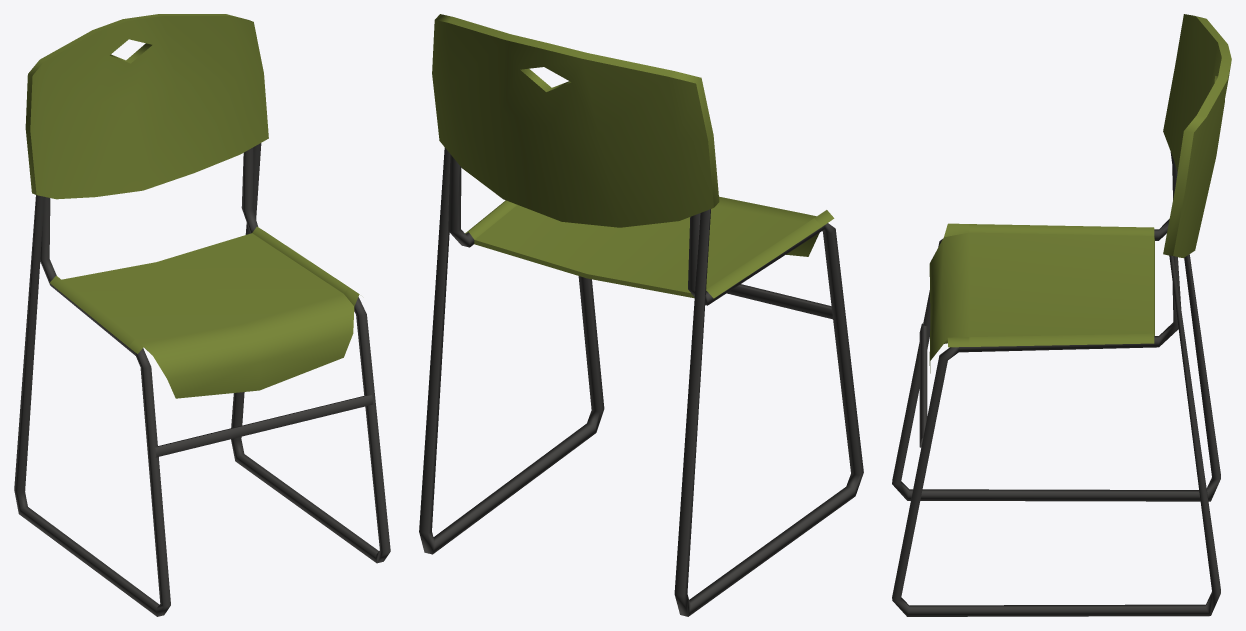
File: Chair_Wire_Mesh.fbx
3 views of the same model, side by side, from view 1: azimuth 30°, elevation 25°; view 2: azimuth 150°, elevation 25°; view 3: azimuth 270°, elevation 25° (orthographic). The views are drawn at different scales.
Parts seen in each view (by area): view 1: SimpleChair; view 2: SimpleChair; view 3: SimpleChair.
Part boxes in pixels (left/top/right/bottom): SimpleChair: left=14, top=14, right=390, bottom=616; SimpleChair: left=419, top=14, right=863, bottom=616; SimpleChair: left=892, top=14, right=1231, bottom=616.
Bounding box in the file's own units: 59 × 111 × 68.51.
